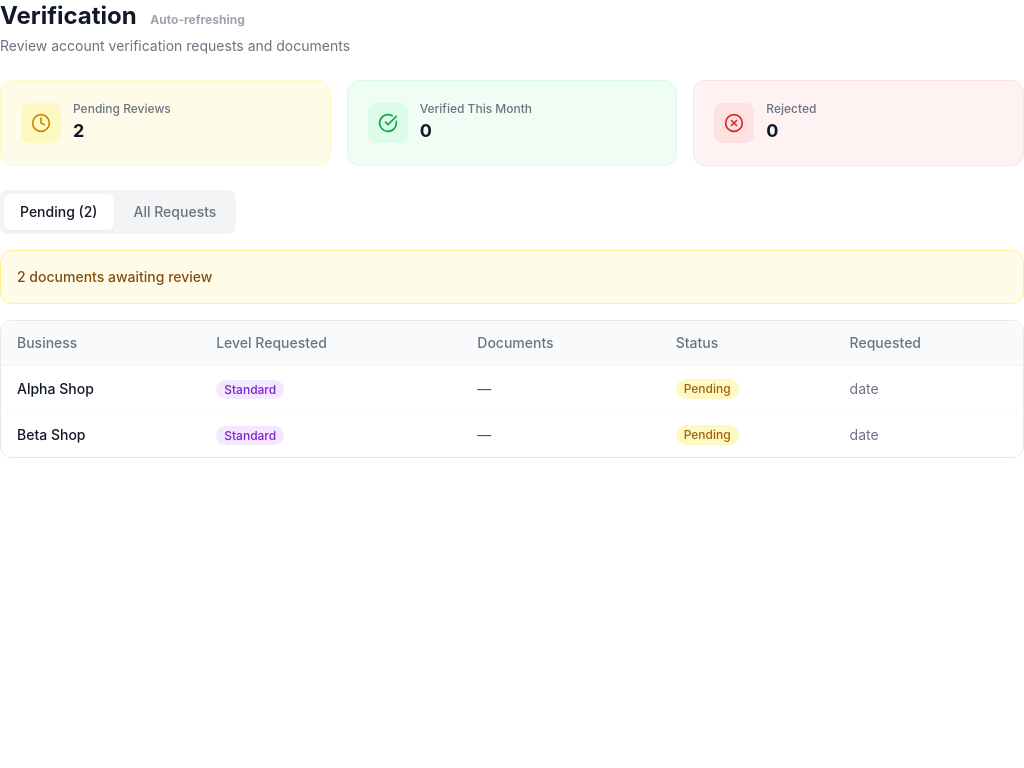
Test: Verification actual mounted review and MFA flow › requires a reason for rejection but permits empty approval notes
The image size is (1024, 768).
What coordinates should you click on to do the following:
click the text "Alpha Shop"
I would click on:
 (55, 388)
Its box is [1,366,200,412].
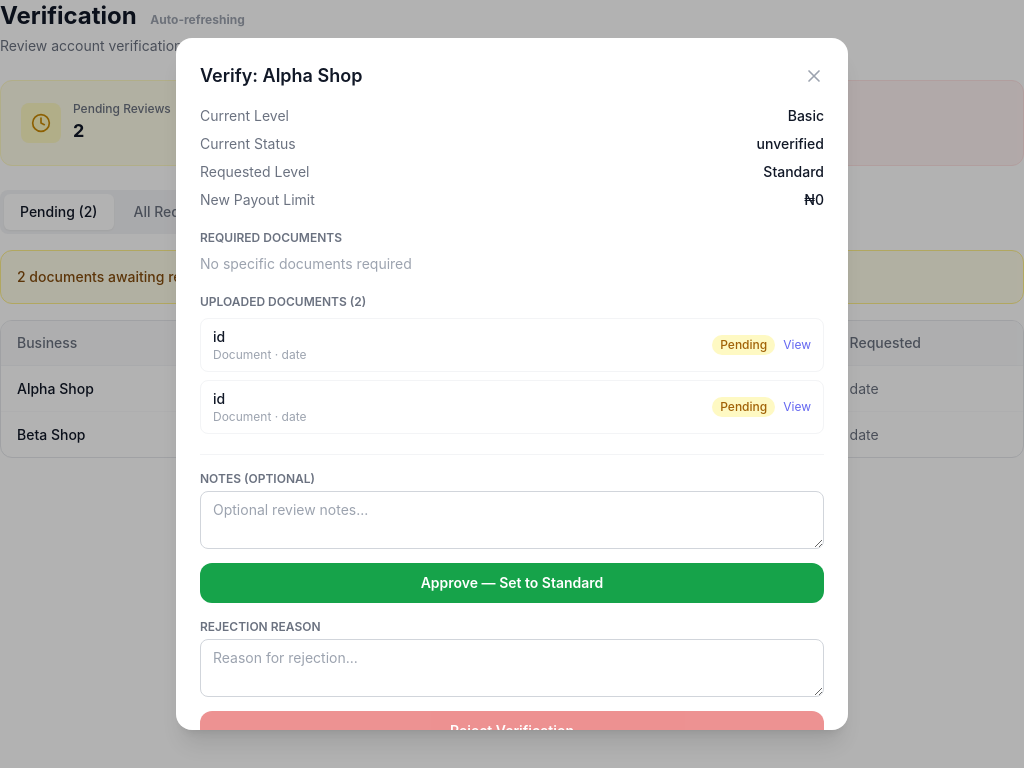
What coordinates should you click on to do the following:
click the button "Approve — Set to Standard"
I would click on:
 (512, 583)
Its box is [200,563,824,603].
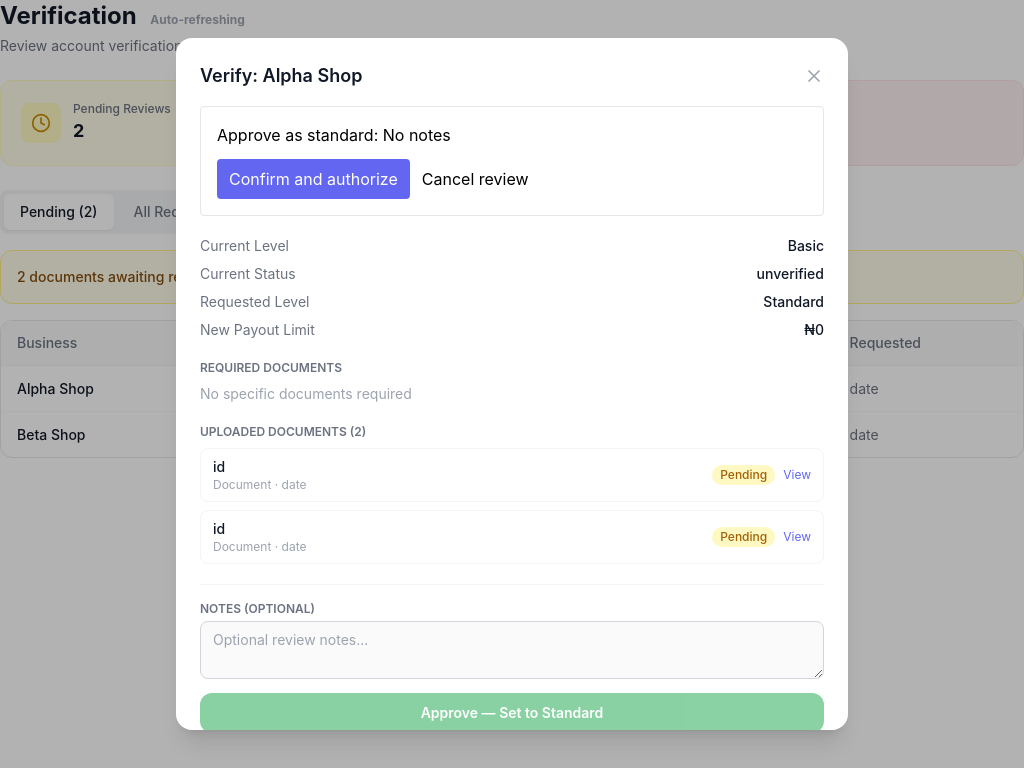
What coordinates should you click on to do the following:
click the button "Confirm and authorize"
I would click on:
 (313, 179)
Its box is [217,159,410,199].
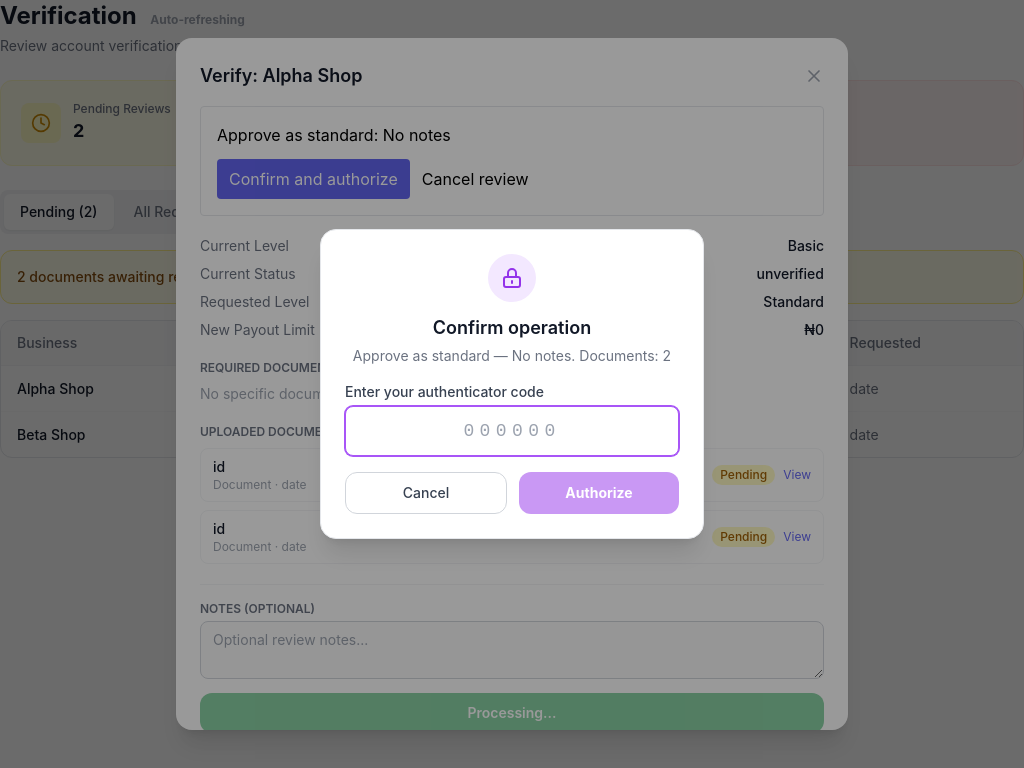
Expected: the field with placeholder "000000" is shown, [345,406,679,456]
